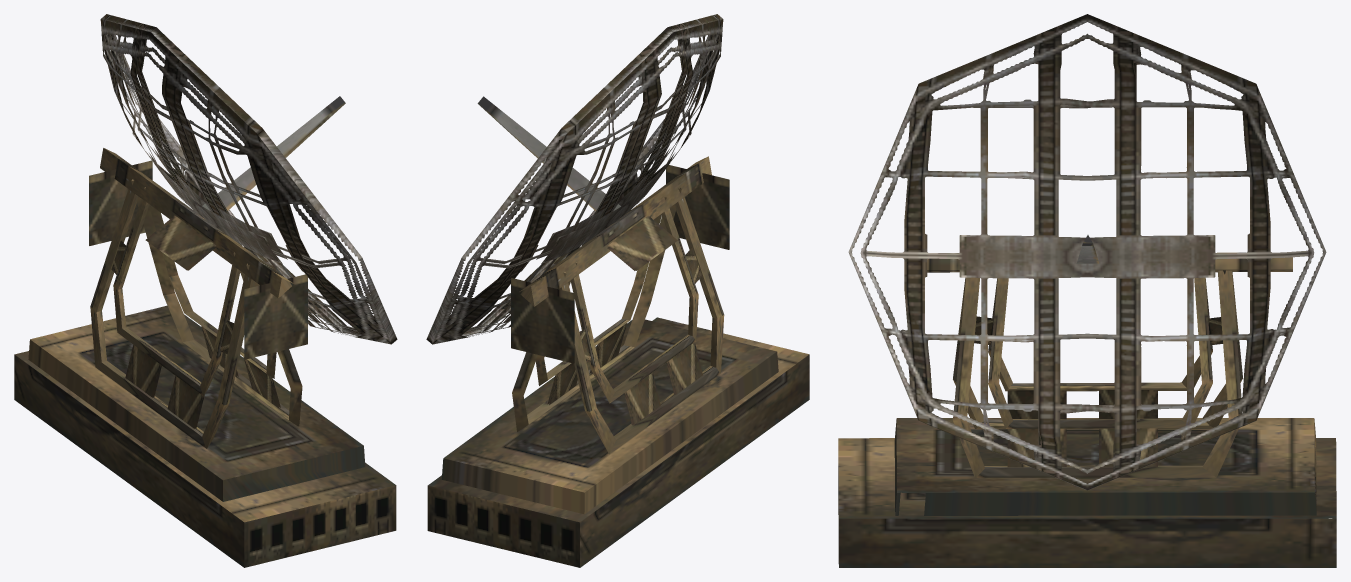
File: radar.FBX
The picture shows the model from 3 angles, left to right: view 1: azimuth 30°, elevation 25°; view 2: azimuth 150°, elevation 25°; view 3: azimuth 270°, elevation 25°; orthographic projection. The views are drawn at different scales.
Visible parts, largest first — view 1: DMG_06_satellite_disapear; view 2: DMG_06_satellite_disapear; view 3: DMG_06_satellite_disapear.
Part boxes in pixels (x1,y1,x2,y2): DMG_06_satellite_disapear: (14,14,397,567); DMG_06_satellite_disapear: (426,14,809,567); DMG_06_satellite_disapear: (838,14,1336,567).
Size of the model in its own units: 10.58 by 20.82 by 19.28.
